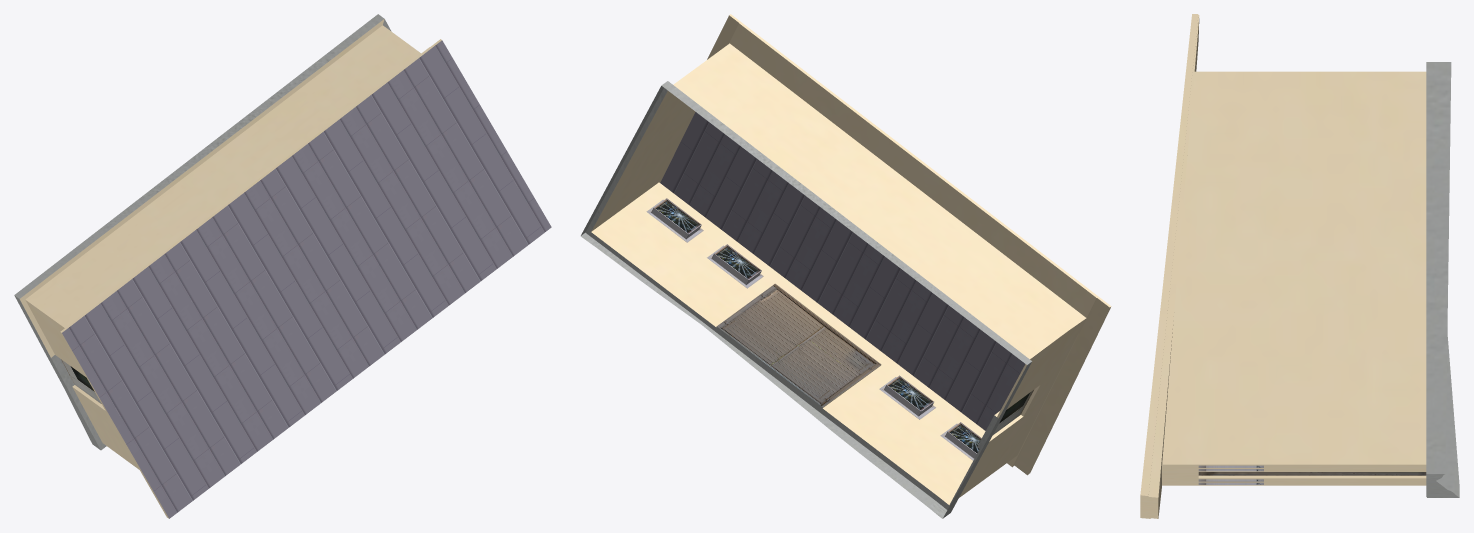
The picture shows the model from 3 angles, left to right: view 1: azimuth 30°, elevation 25°; view 2: azimuth 150°, elevation 25°; view 3: azimuth 270°, elevation 25°; orthographic projection. The views are drawn at different scales.
Visible parts, largest first — view 1: Tp12_b_polySurface14; view 2: Tp12_b_polySurface14; view 3: Tp12_b_polySurface14.
Boxes of the visible parts, x1,y1,x2,y2 form: Tp12_b_polySurface14: (14,14,551,518); Tp12_b_polySurface14: (580,14,1111,518); Tp12_b_polySurface14: (1140,14,1459,518).
Bounding box in the file's own units: 11.97 × 9.58 × 3.57.
